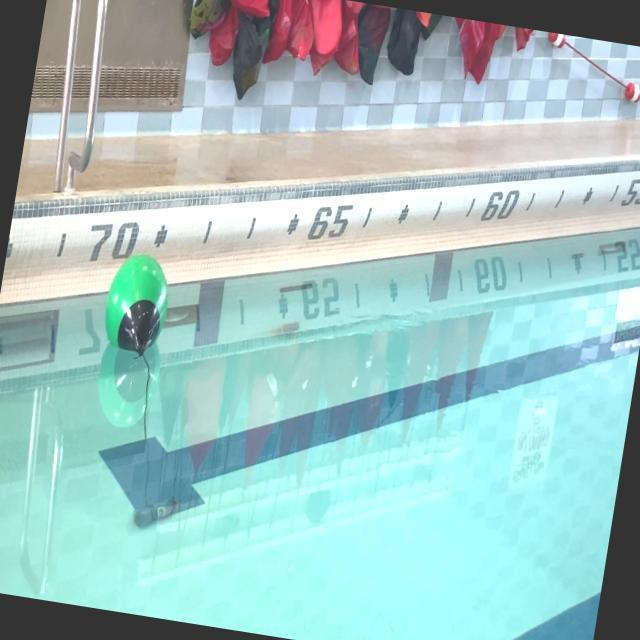buoy: (96, 246, 175, 362)
